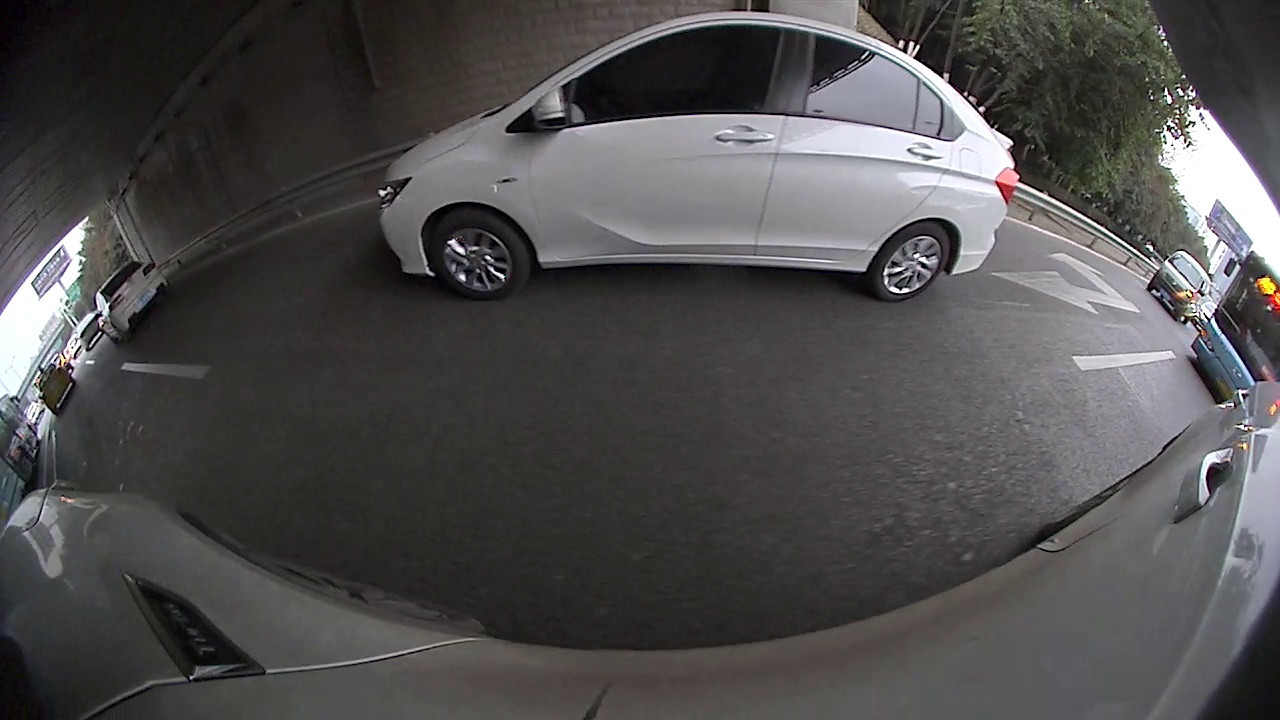bus: (1187, 247, 1279, 411)
car: (377, 13, 1022, 303), (93, 258, 170, 347), (1145, 248, 1214, 324), (31, 359, 75, 416)
front: (429, 207, 536, 305)
rear: (868, 218, 951, 306)
